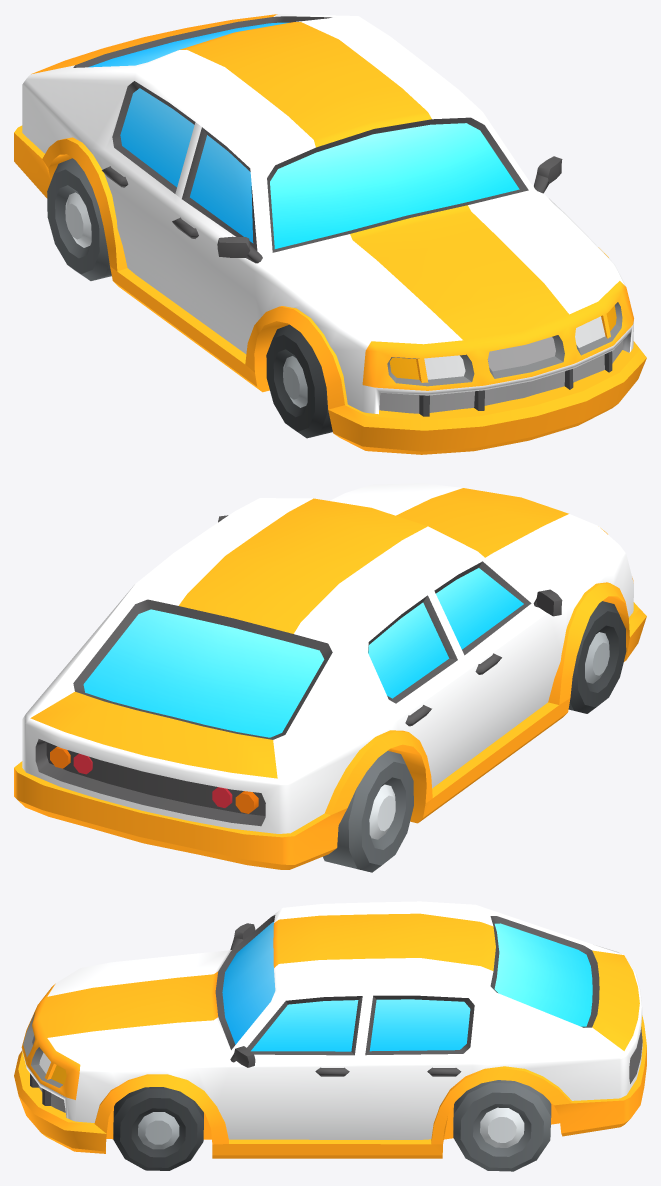
File: city2-car-36.glb
The picture shows the model from 3 angles, top to bottom: view 1: azimuth 30°, elevation 25°; view 2: azimuth 150°, elevation 25°; view 3: azimuth 270°, elevation 25°; orthographic projection. The views are drawn at different scales.
Visible parts, largest first — view 1: Car_36, Wheel_082, Wheel_081; view 2: Car_36, Wheel_082, Wheel_081; view 3: Car_36, Wheel_084, Wheel_083.
Boxes of the visible parts, x1=… form: Car_36: x1=14, y1=14, x2=646, y2=454; Wheel_082: x1=47, y1=158, x2=111, y2=280; Wheel_081: x1=266, y1=324, x2=332, y2=438; Car_36: x1=14, y1=483, x2=646, y2=869; Wheel_082: x1=323, y1=751, x2=413, y2=872; Wheel_081: x1=568, y1=601, x2=626, y2=713; Car_36: x1=14, y1=901, x2=646, y2=1158; Wheel_084: x1=453, y1=1080, x2=551, y2=1171; Wheel_083: x1=113, y1=1087, x2=203, y2=1170.
Bounding box in the file's own units: 2.41 × 1.52 × 4.83.
2 materials, 2 textured.
